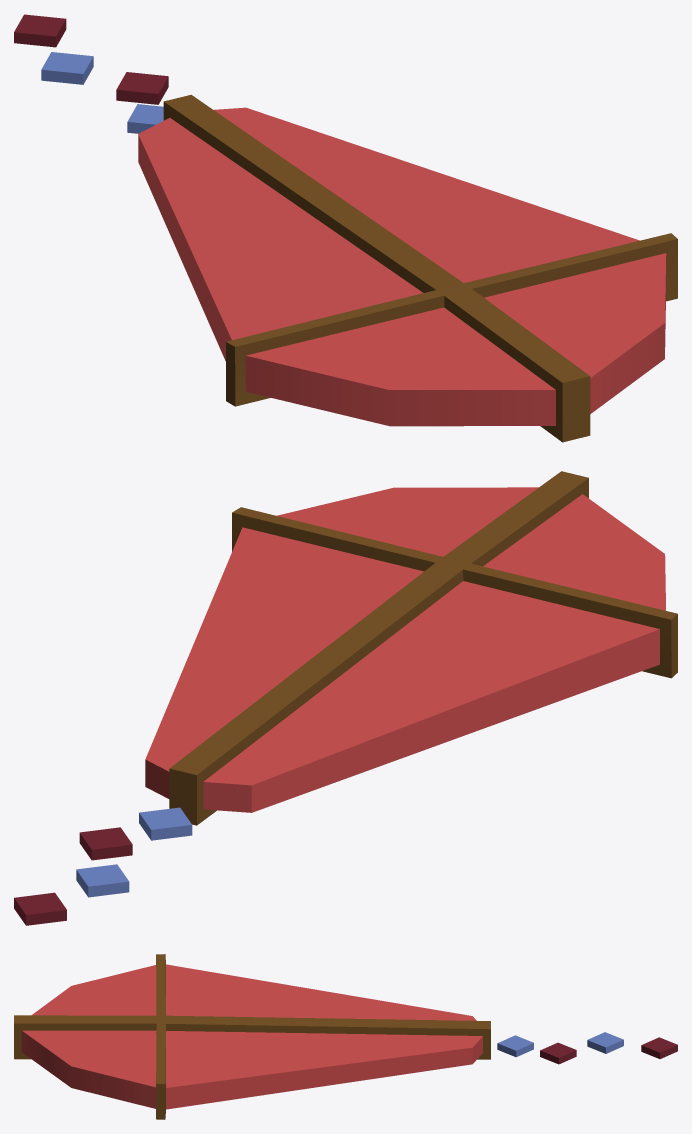
File: dragon.fbx
The picture shows the model from 3 angles, top to bottom: view 1: azimuth 30°, elevation 25°; view 2: azimuth 150°, elevation 25°; view 3: azimuth 270°, elevation 25°; orthographic projection. The views are drawn at different scales.
Parts seen in each view (by area): view 1: Cube157; view 2: Cube157; view 3: Cube157.
Part boxes in pixels (x1,y1,x2,y2): Cube157: (14,14,677,442); Cube157: (14,471,677,925); Cube157: (14,954,677,1119).
Size of the model in its own units: 324 by 42.31 by 698.
